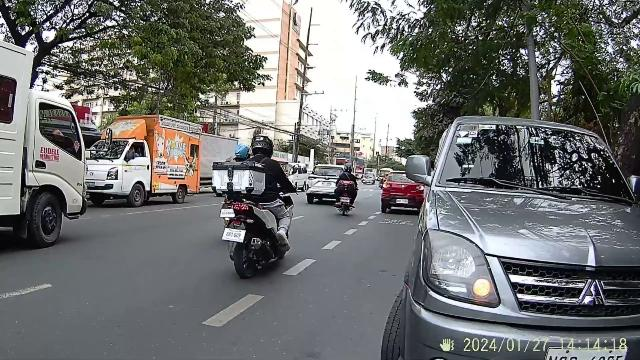car: (416, 132, 604, 360)
